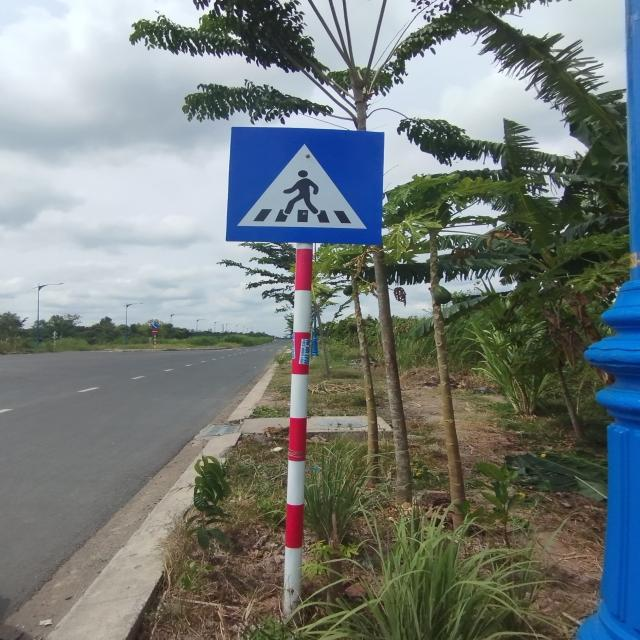Giao_Nhau_Duong_Uu_Tien: (227, 126, 385, 242)
